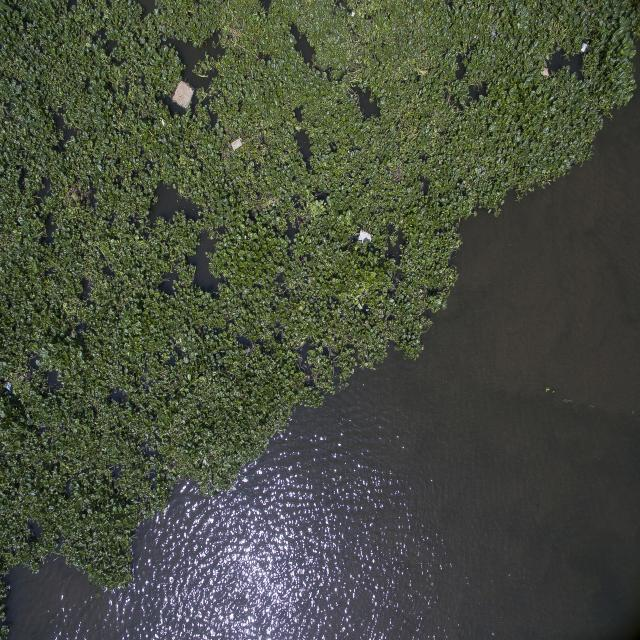debris: (172, 81, 196, 109), (228, 136, 250, 156), (358, 224, 372, 250), (349, 5, 358, 21), (540, 64, 550, 78), (580, 40, 587, 56)
plastic: (3, 378, 16, 389)
